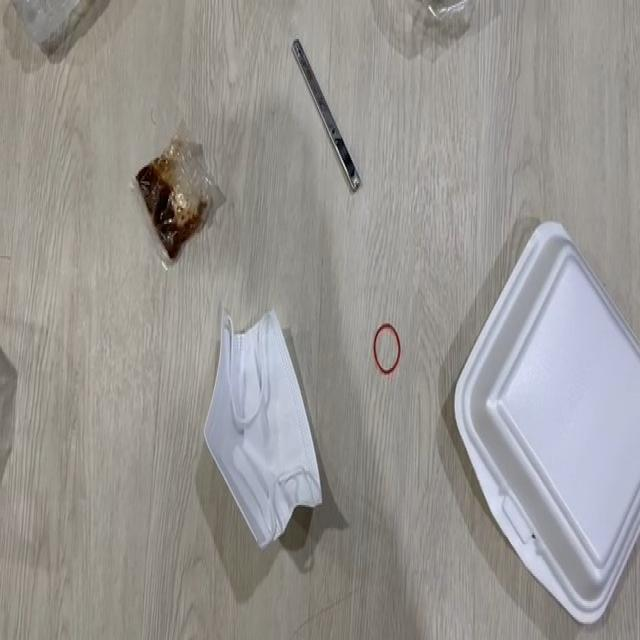Anorganik: (445, 204, 640, 616), (273, 34, 372, 197), (9, 0, 110, 69), (367, 319, 406, 379)
B3: (194, 302, 318, 560), (127, 109, 229, 273)
